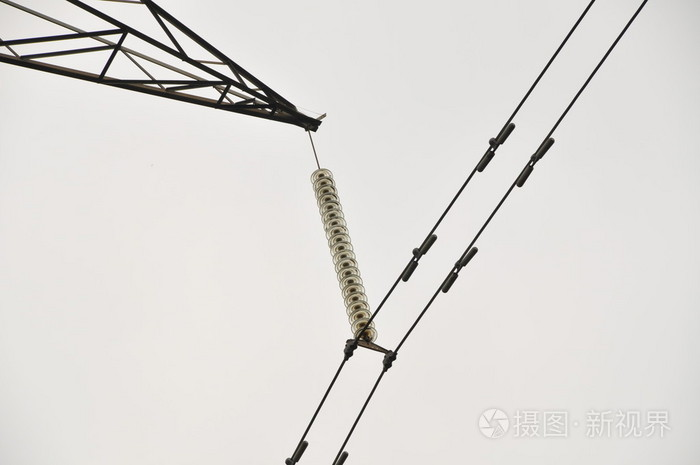insulator: (311, 170, 377, 343)
